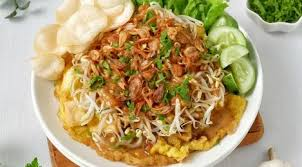Tahu telor: (54, 7, 248, 167)
